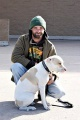male: (23, 15, 51, 42)
